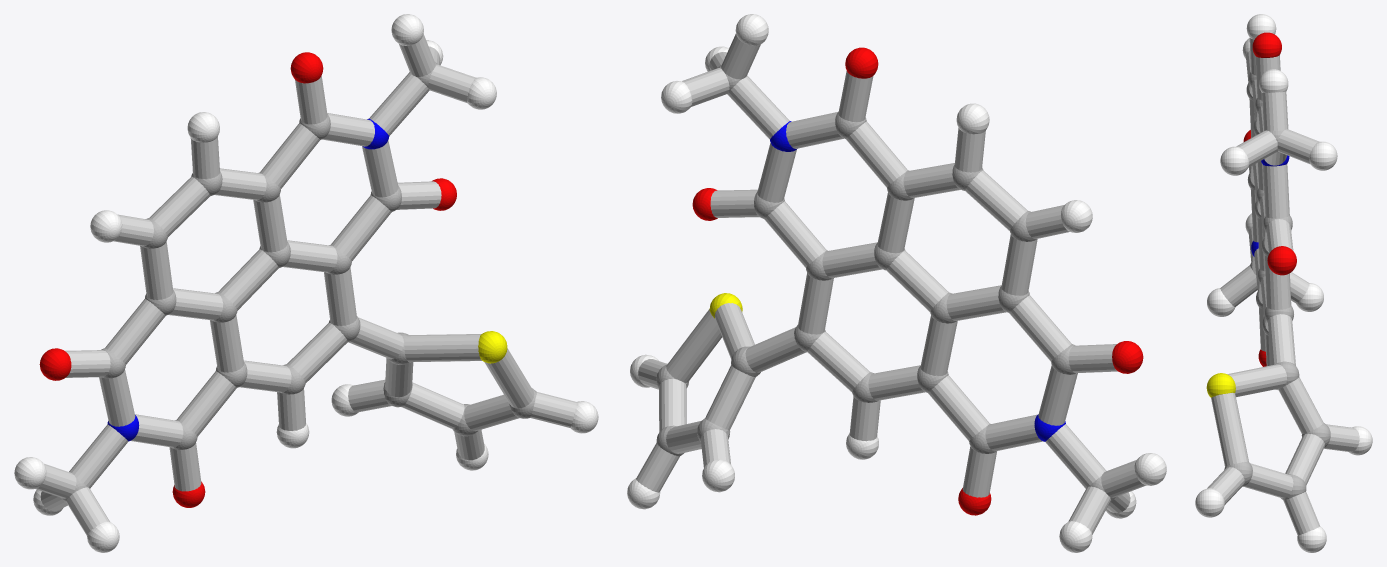
The model's file is Dimethyl_Naphthalene_Dicarboximide_Phi_15_Theta_230_Thiophene.glb.
3 renders of one model, left to right at view 1: azimuth 30°, elevation 25°; view 2: azimuth 150°, elevation 25°; view 3: azimuth 270°, elevation 25°, orthographic. The views are drawn at different scales.
Visible parts, largest first — view 1: grp14119, grp7241, grp1, grp12309, grp13757, grp11585; view 2: grp14119, grp7241, grp1, grp12309, grp11585; view 3: grp14119, grp7241, grp1, grp12309, grp13757.
Part boxes in pixels (left/top/right/bottom): grp14119: left=35, top=34, right=576, bottom=535; grp7241: left=14, top=14, right=598, bottom=552; grp1: left=61, top=62, right=536, bottom=501; grp12309: left=39, top=52, right=456, bottom=507; grp13757: left=478, top=331, right=507, bottom=363; grp11585: left=107, top=118, right=389, bottom=441; grp14119: left=636, top=34, right=1146, bottom=534; grp7241: left=627, top=14, right=1166, bottom=552; grp1: left=656, top=64, right=1115, bottom=501; grp12309: left=692, top=47, right=1143, bottom=515; grp11585: left=770, top=121, right=1065, bottom=441; grp14119: left=1207, top=38, right=1359, bottom=535; grp7241: left=1195, top=14, right=1372, bottom=552; grp1: left=1224, top=72, right=1330, bottom=500; grp12309: left=1243, top=32, right=1296, bottom=366; grp13757: left=1206, top=373, right=1235, bottom=397.
Size of the model in its own units: 11.72 by 9.94 by 3.61.
